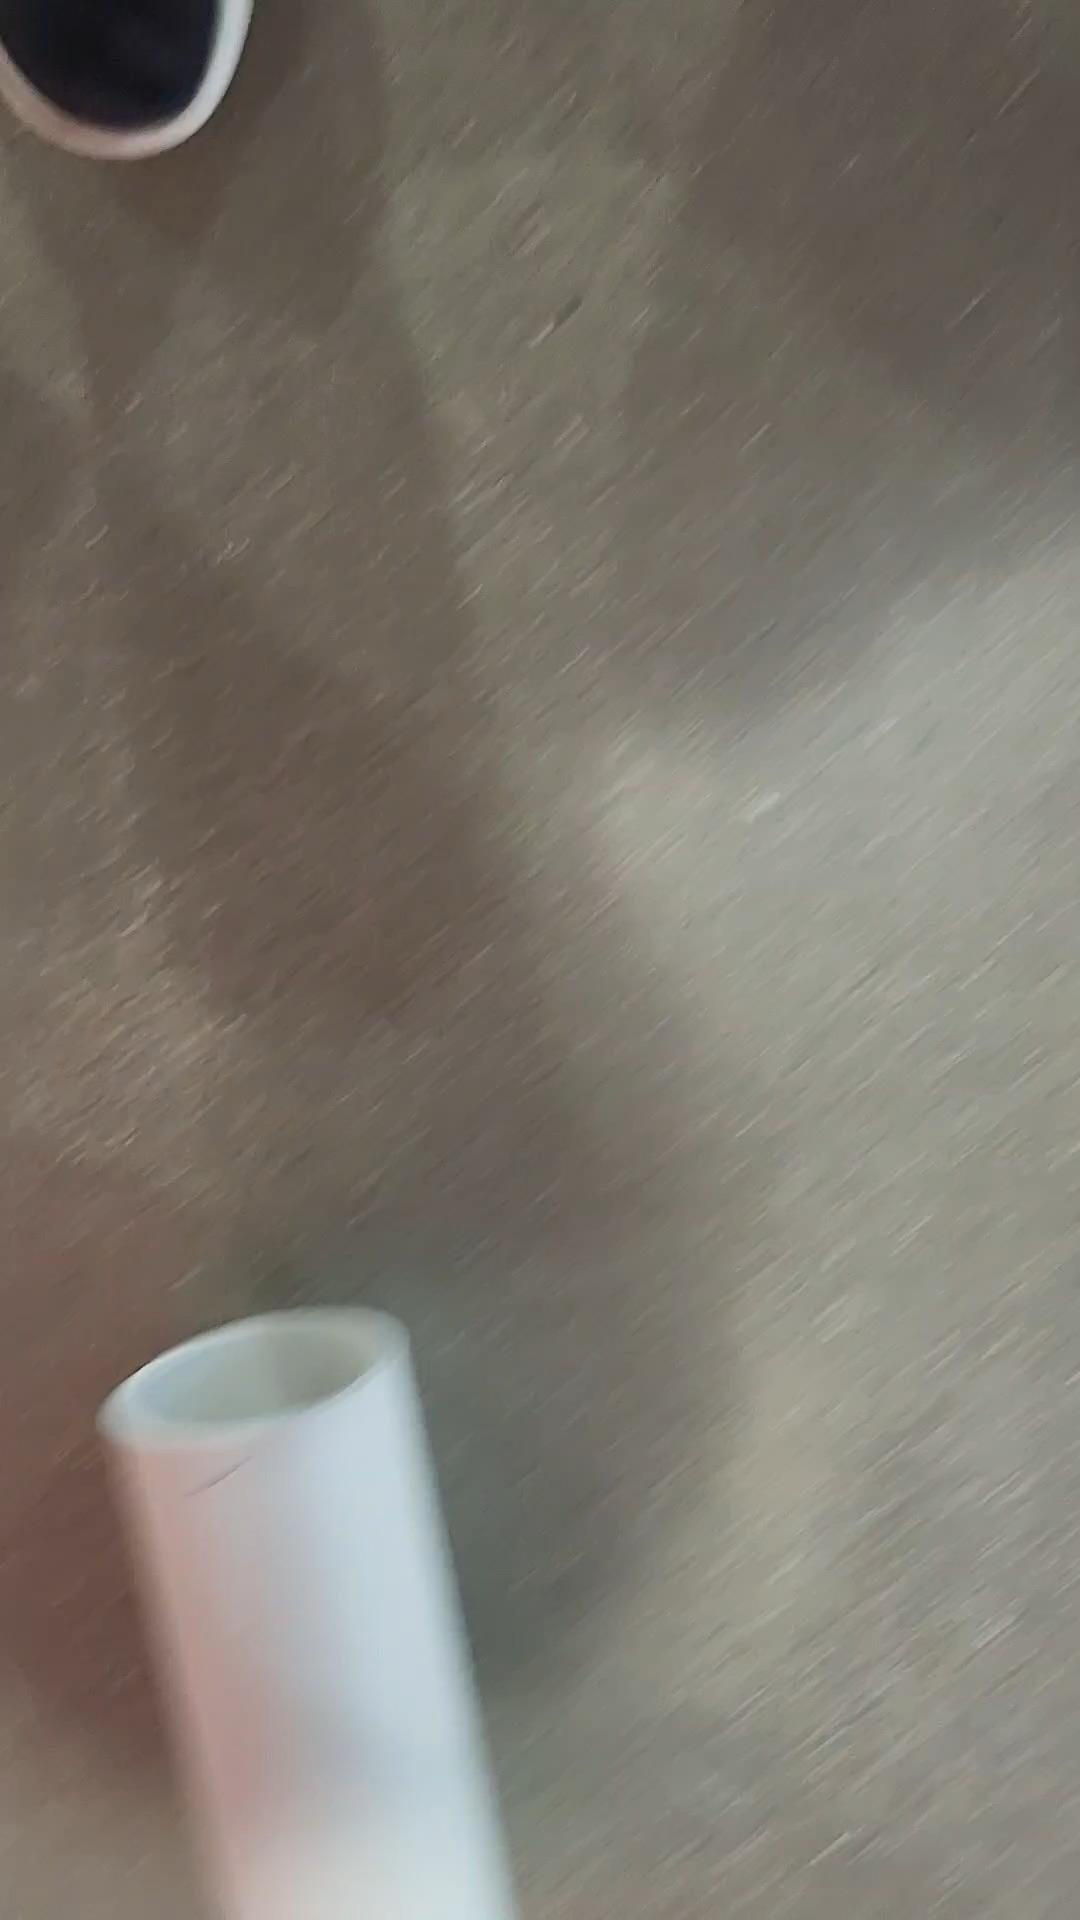coral: (90, 1300, 537, 1920)
